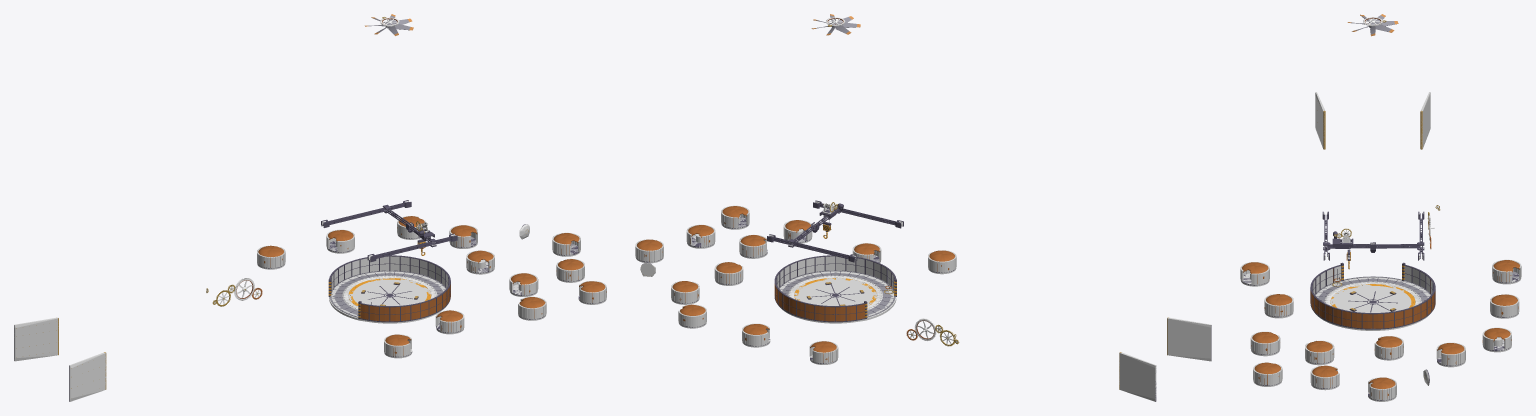
File: workshop_moving.fbx
3 renders of one model, left to right at view 1: azimuth 30°, elevation 25°; view 2: azimuth 150°, elevation 25°; view 3: azimuth 270°, elevation 25°, orthographic. The views are drawn at different scales.
Parts seen in each view (by area): view 1: TurntableA, COLT_A_Pad_00, COLT_Gate_Door_N, COLT_Gate_Door_S, Hoist_Pivot_Lift; view 2: TurntableA, COLT_A_Pad_00, COLT_Gate_Door_S, COLT_Gate_Door_N, Hoist_Pivot_Lift; view 3: TurntableA, COLT_A_Pad_00, Hoist_Pivot_Bridge, Fan_Rotor, Hoist_Pivot_Lift, COLT_Gate_Door_N, COLT_Gate_Door_S, Turntable_01, Turntable_12, Turntable_11, Turntable_03, Turntable_04 (+7 smaller).
Part boxes in pixels (x1=…): TurntableA: x1=328, y1=255, x2=450, y2=322; COLT_A_Pad_00: x1=348, y1=278, x2=430, y2=306; COLT_Gate_Door_N: x1=14, y1=317, x2=58, y2=361; COLT_Gate_Door_S: x1=69, y1=352, x2=106, y2=401; Hoist_Pivot_Lift: x1=321, y1=200, x2=457, y2=262; TurntableA: x1=774, y1=255, x2=896, y2=322; COLT_A_Pad_00: x1=794, y1=278, x2=876, y2=305; COLT_Gate_Door_S: x1=1167, y1=317, x2=1211, y2=361; COLT_Gate_Door_N: x1=1119, y1=352, x2=1156, y2=401; Hoist_Pivot_Lift: x1=767, y1=200, x2=903, y2=262; TurntableA: x1=1310, y1=262, x2=1435, y2=329; COLT_A_Pad_00: x1=1330, y1=284, x2=1414, y2=312; Hoist_Pivot_Bridge: x1=1323, y1=242, x2=1424, y2=252; Fan_Rotor: x1=1347, y1=14, x2=1398, y2=36; Hoist_Pivot_Lift: x1=1322, y1=211, x2=1424, y2=260; COLT_Gate_Door_N: x1=1420, y1=92, x2=1430, y2=149; COLT_Gate_Door_S: x1=1315, y1=92, x2=1325, y2=148; Turntable_01: x1=1493, y1=260, x2=1519, y2=283; Turntable_12: x1=1242, y1=262, x2=1268, y2=285; Turntable_11: x1=1264, y1=294, x2=1292, y2=317; Turntable_03: x1=1482, y1=328, x2=1511, y2=351; Turntable_04: x1=1437, y1=343, x2=1464, y2=366.
Bounding box in the file's own units: 18753 × 9255 × 8214.
